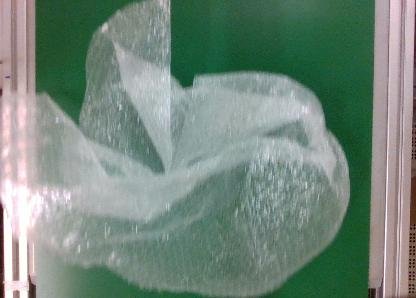Others: (37, 1, 350, 298)
